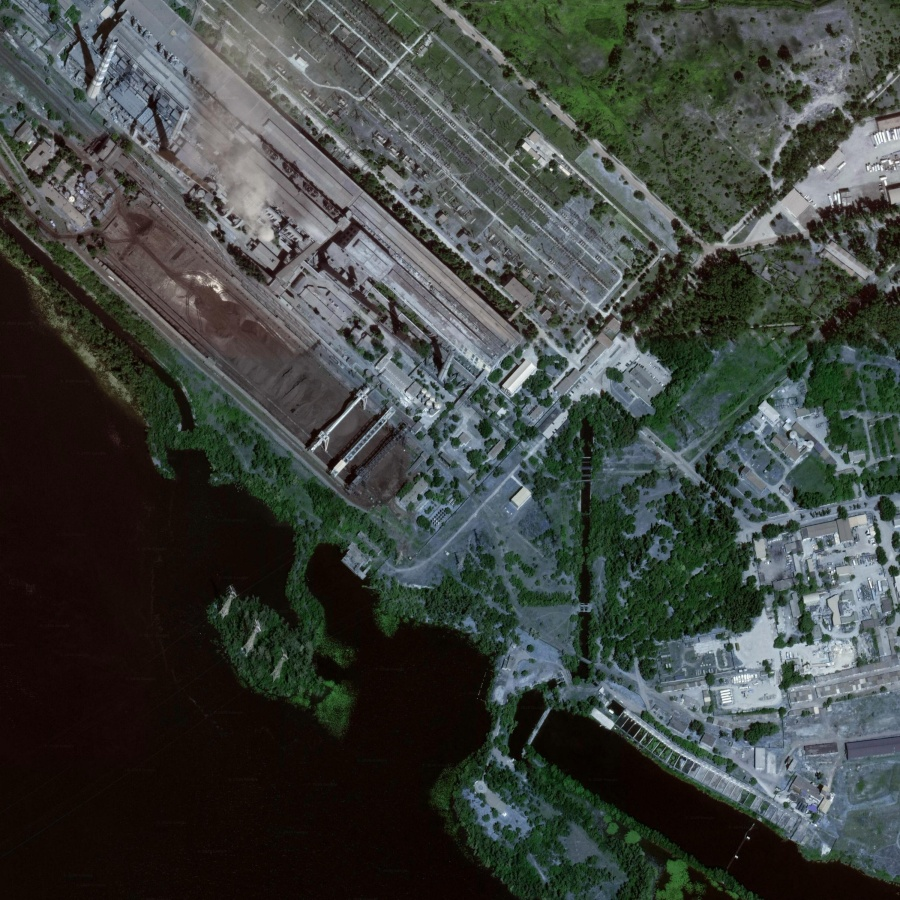PowerPlant: (43, 8, 476, 507)
